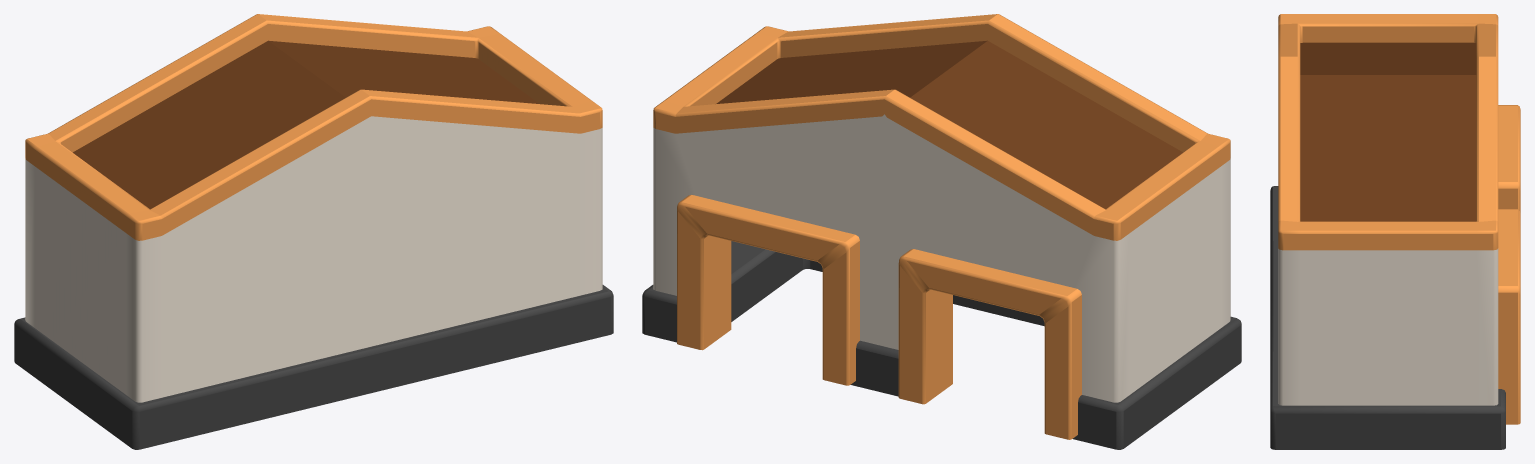
Rendered from Storage.fbx.
3 renders of one model, left to right at view 1: azimuth 30°, elevation 25°; view 2: azimuth 150°, elevation 25°; view 3: azimuth 270°, elevation 25°, orthographic. The views are drawn at different scales.
Parts seen in each view (by area): view 1: Storage; view 2: Storage; view 3: Storage.
Part boxes in pixels (x1,y1,x2,y2): Storage: [14, 14, 613, 449]; Storage: [642, 14, 1241, 449]; Storage: [1270, 14, 1520, 449].
Bounding box in the file's own units: 10.51 × 6.11 × 4.93.
